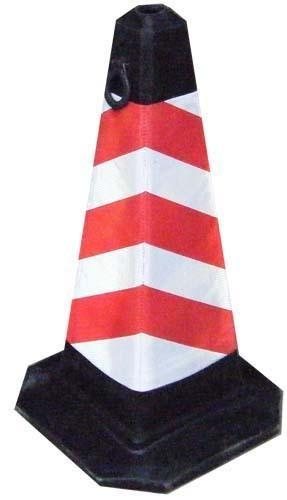cone_barrel: (47, 4, 243, 412)
